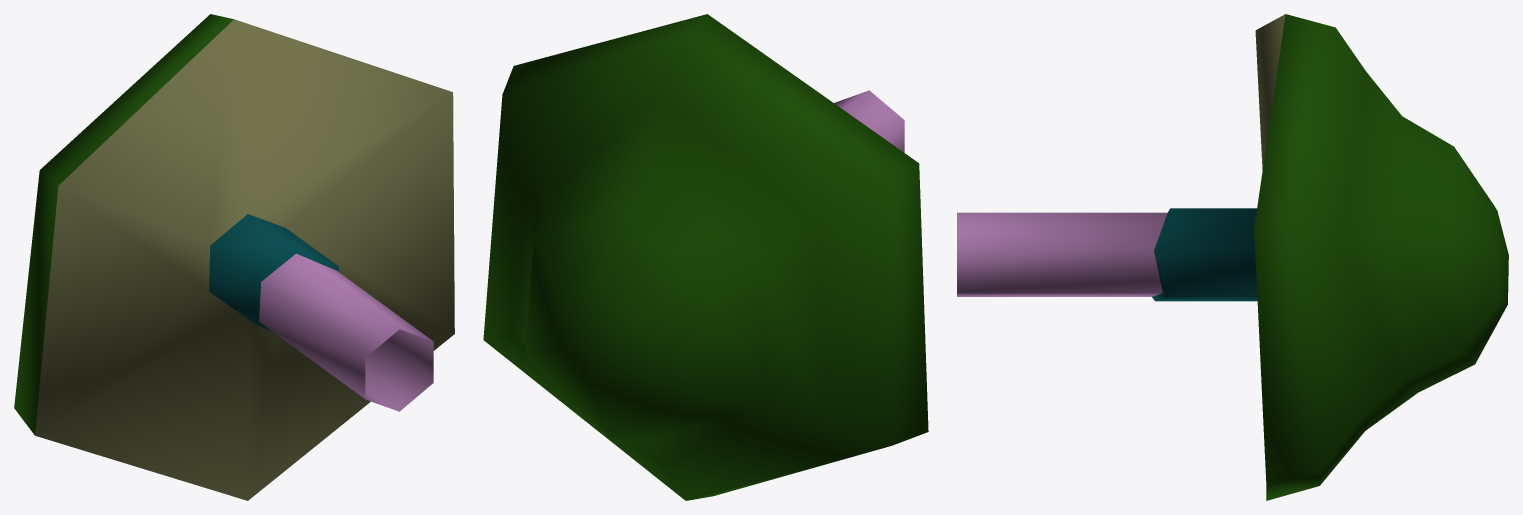
Rendered from AmanitaMuscariaMushroom_v2.fbx.
3 views of the same model, side by side, from view 1: azimuth 30°, elevation 25°; view 2: azimuth 150°, elevation 25°; view 3: azimuth 270°, elevation 25° (orthographic). The views are drawn at different scales.
Visible parts, largest first — view 1: Amanita_Muscaria; view 2: Amanita_Muscaria; view 3: Amanita_Muscaria.
Boxes of the visible parts, x1,y1,x2,y2 form: Amanita_Muscaria: (14,14,454,500); Amanita_Muscaria: (483,14,928,500); Amanita_Muscaria: (957,14,1508,500).
Size of the model in its own units: 23.86 by 25.95 by 26.77.
